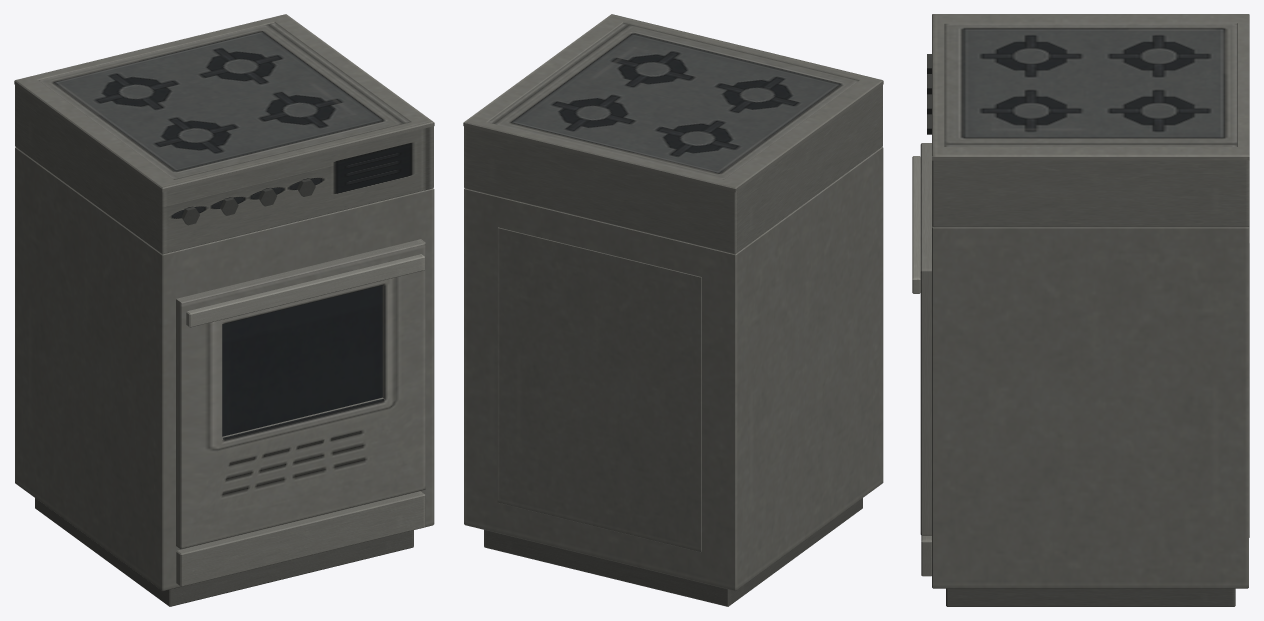
The model's file is stove.glb.
The picture shows the model from 3 angles, left to right: view 1: azimuth 30°, elevation 25°; view 2: azimuth 150°, elevation 25°; view 3: azimuth 270°, elevation 25°; orthographic projection. The views are drawn at different scales.
Visible parts, largest first — view 1: core_stove; view 2: core_stove; view 3: core_stove.
Part boxes in pixels (bbox=[...]): core_stove: bbox=[14, 14, 434, 606]; core_stove: bbox=[463, 14, 883, 606]; core_stove: bbox=[912, 14, 1249, 606].
Bounding box in the file's own units: 0.6 × 0.9 × 0.6.
1 material, 1 textured.
